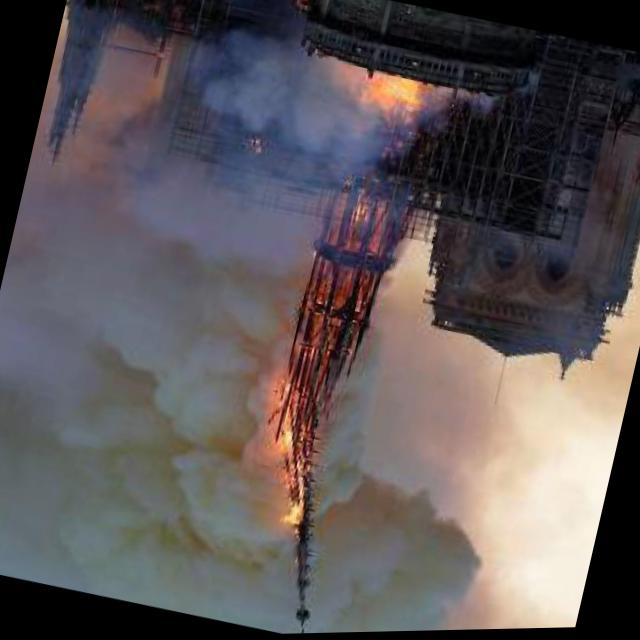Fire: (233, 180, 385, 537), (411, 51, 542, 169), (342, 53, 432, 129)
